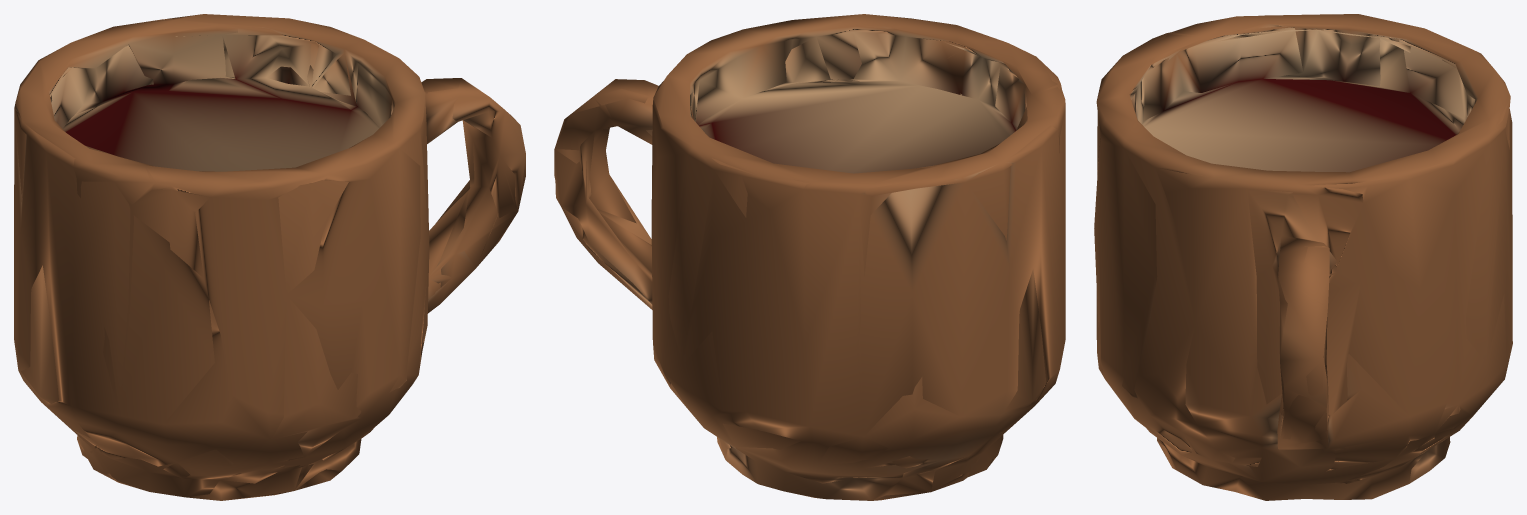
Rendered from gen3d-coffee-lod0.glb.
The picture shows the model from 3 angles, left to right: view 1: azimuth 30°, elevation 25°; view 2: azimuth 150°, elevation 25°; view 3: azimuth 270°, elevation 25°; orthographic projection.
Visible parts, largest first — view 1: part_0; view 2: part_0; view 3: part_0.
Part boxes in pixels (x1,y1,x2,y2): part_0: (14,14,525,500); part_0: (554,14,1065,500); part_0: (1094,14,1512,500).
Size of the model in its own units: 1.43 by 0.9992 by 1.08.
